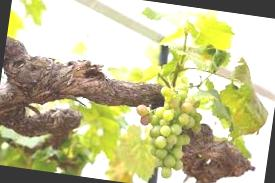Grape Rotten: (126, 74, 208, 182)
